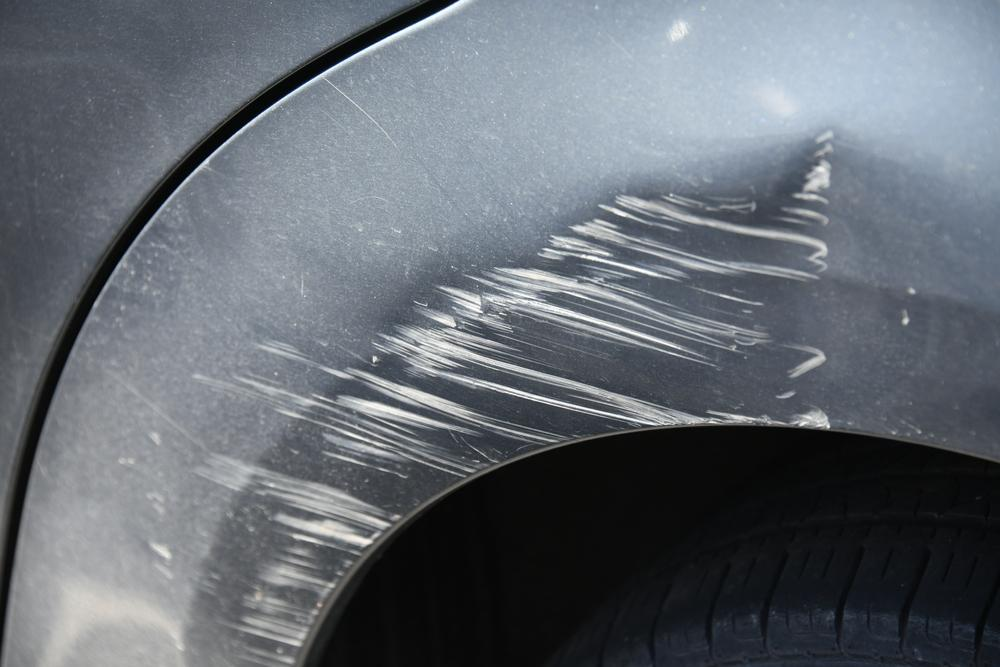dent: (577, 125, 958, 401)
scratch: (197, 222, 835, 667)
